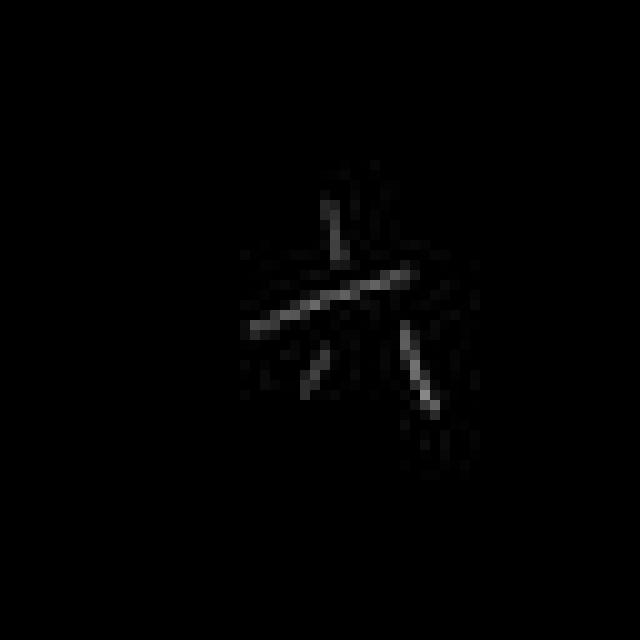6 -six-: (237, 184, 449, 443)
